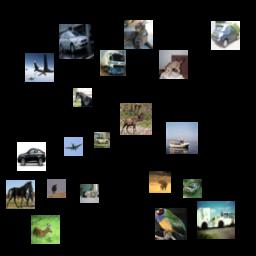airplane: (25, 53, 54, 82), (64, 137, 83, 156)
automobile: (59, 24, 94, 59), (211, 21, 240, 50), (17, 142, 46, 171), (183, 179, 202, 198), (94, 132, 110, 148)
bird: (155, 208, 187, 240), (47, 179, 66, 198)
cat: (124, 20, 153, 49), (159, 50, 188, 79), (80, 184, 99, 203)
deer: (120, 103, 152, 135), (31, 215, 60, 244), (149, 171, 171, 193)
ship: (166, 122, 198, 154)
truck: (197, 201, 235, 239), (100, 50, 126, 76)
